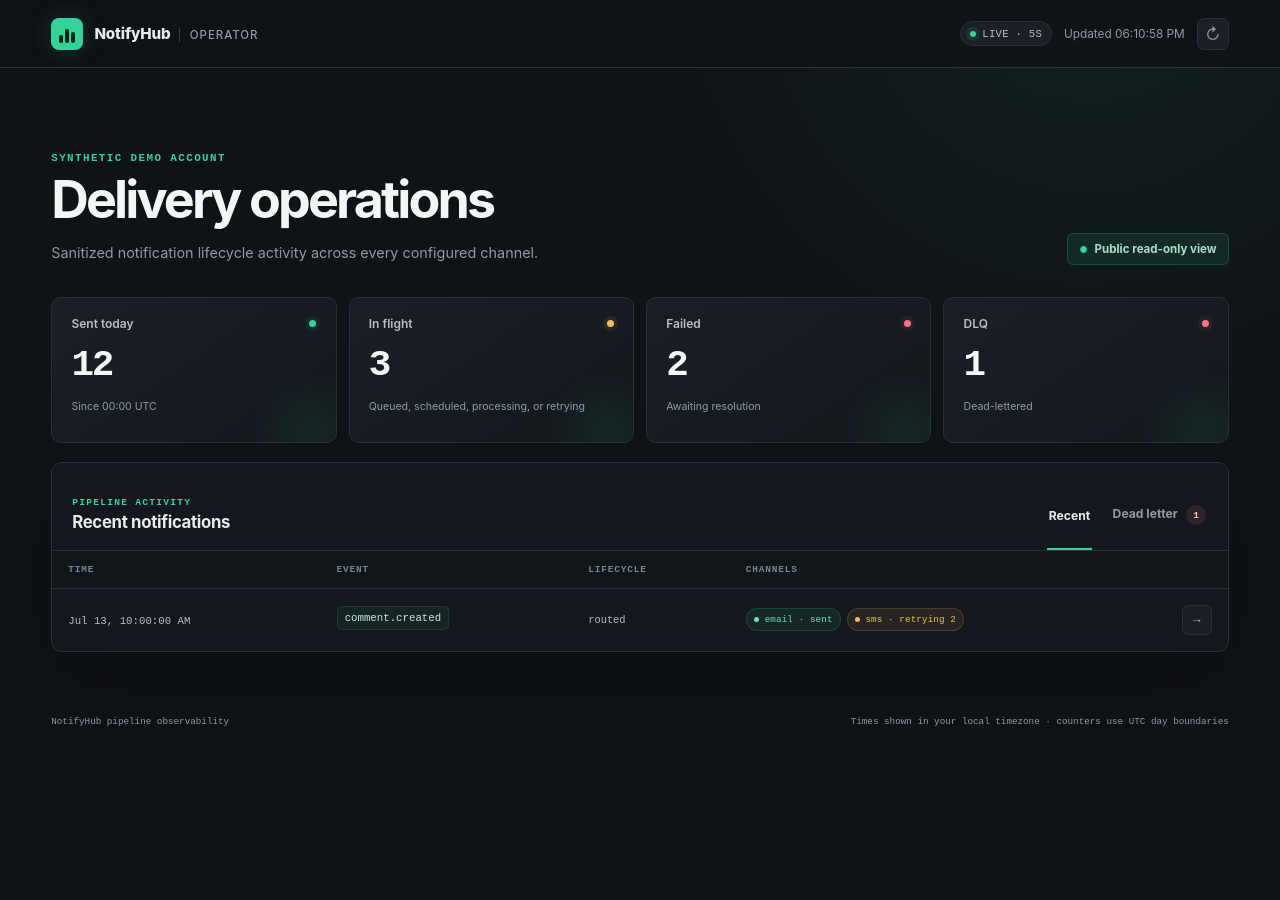
it: operator dashboard › handles the removed retry outcome and keeps the key in component memory
Click the tab "Dead letter 1" at (1159, 516), box [1111, 482, 1208, 550]
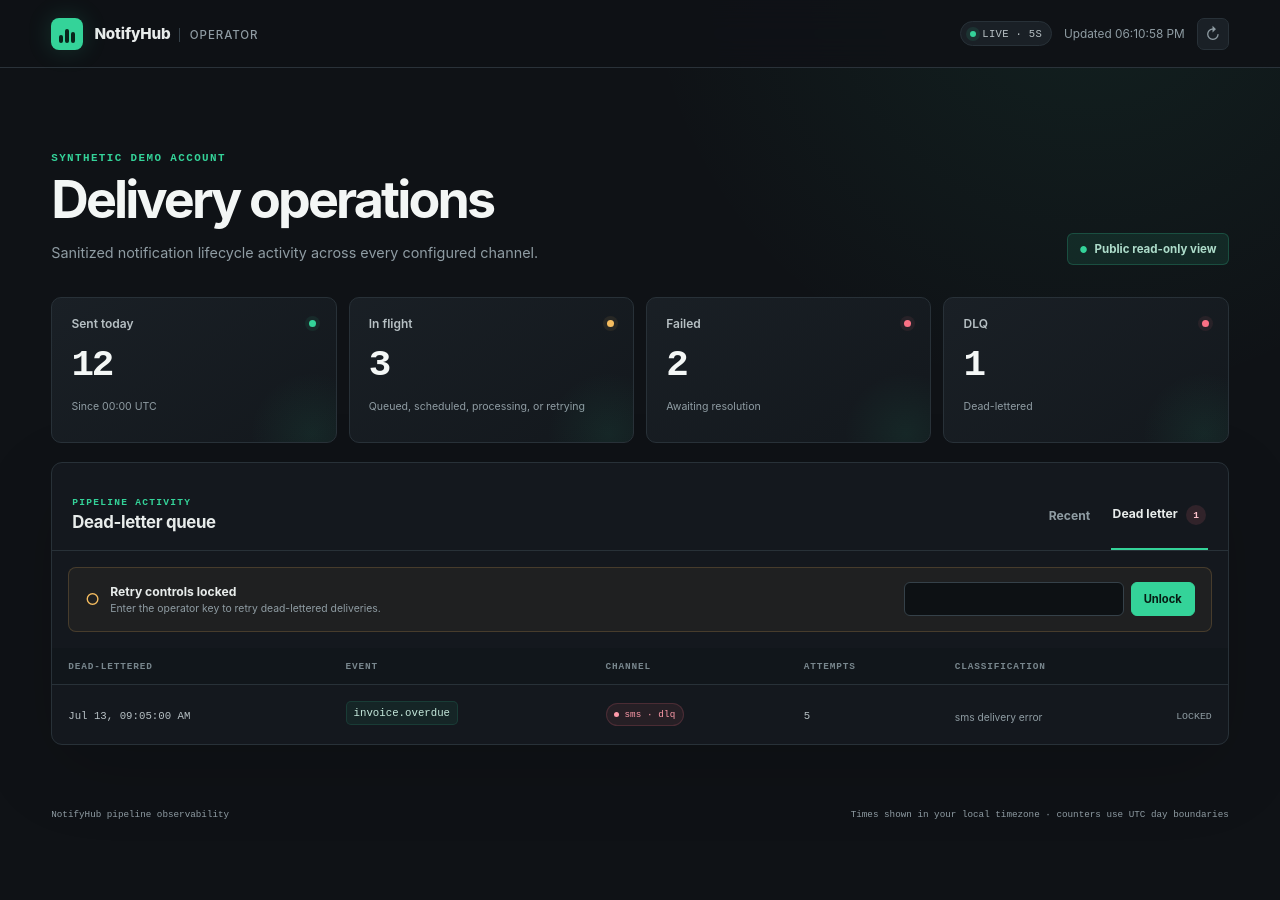
Type "memory-only-key" into the password field named "Operator key" at (1014, 599), box [904, 582, 1124, 616]
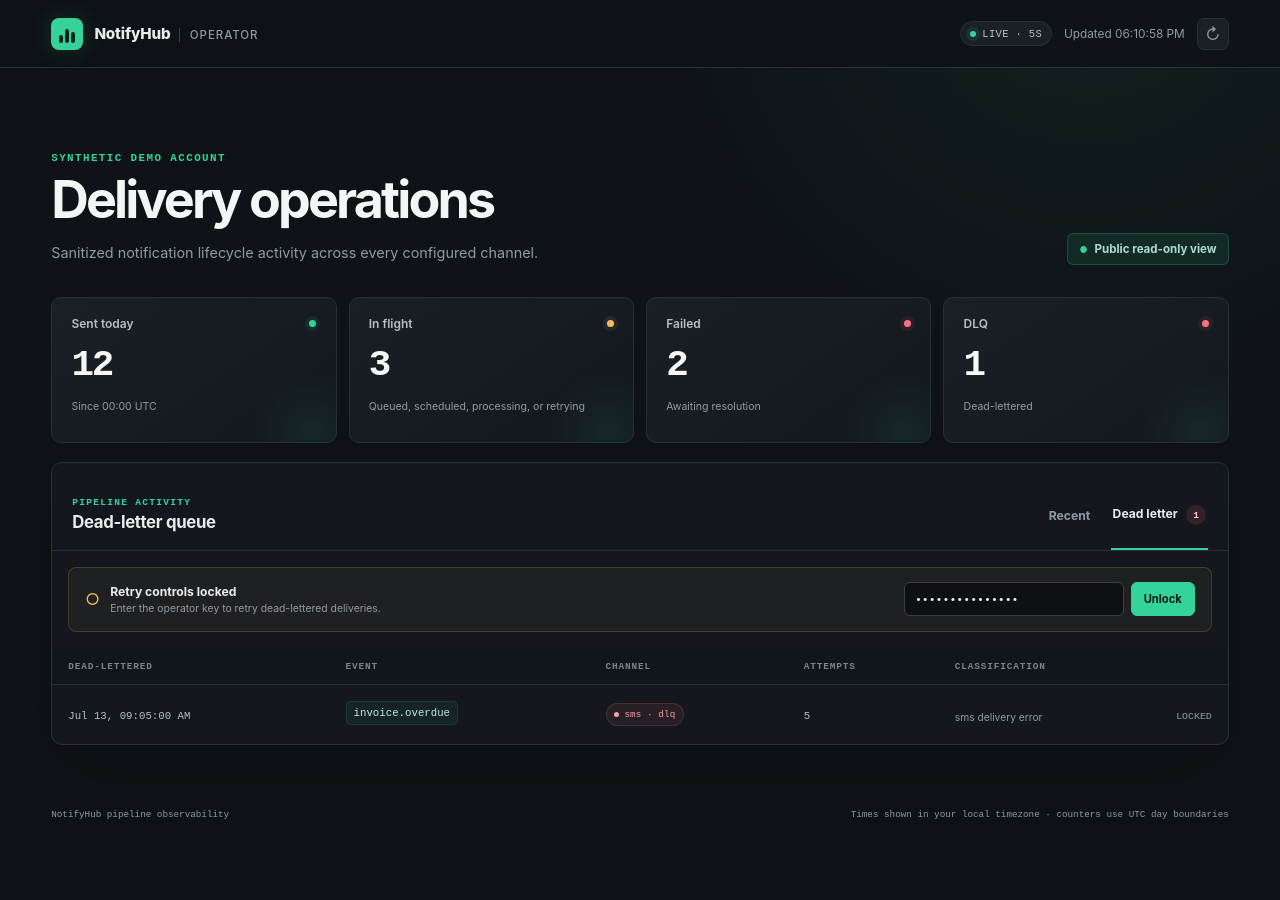
Submit the form named "Operator key", box [904, 582, 1195, 616]
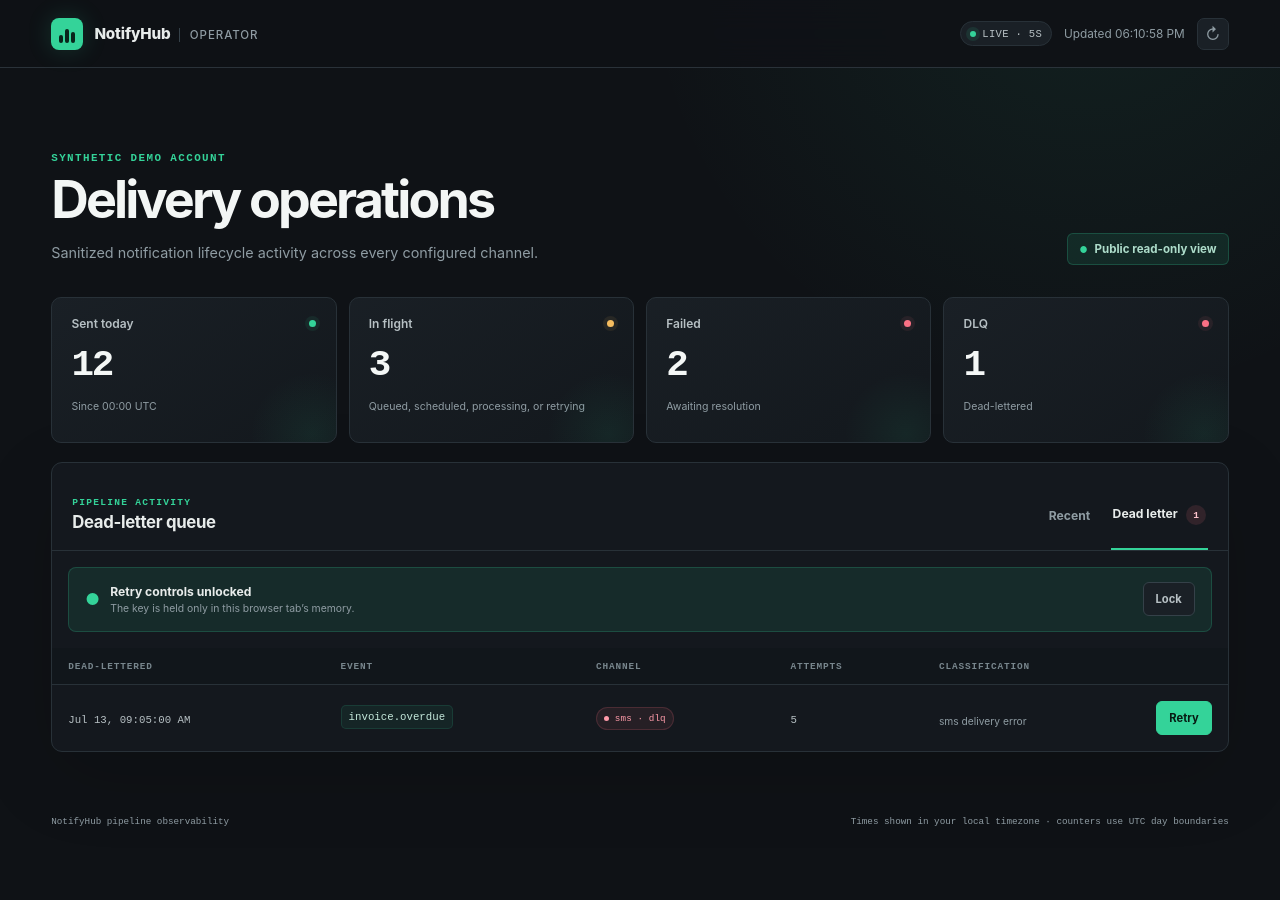
Click the button "Retry" at (1184, 718), box [1156, 701, 1212, 735]
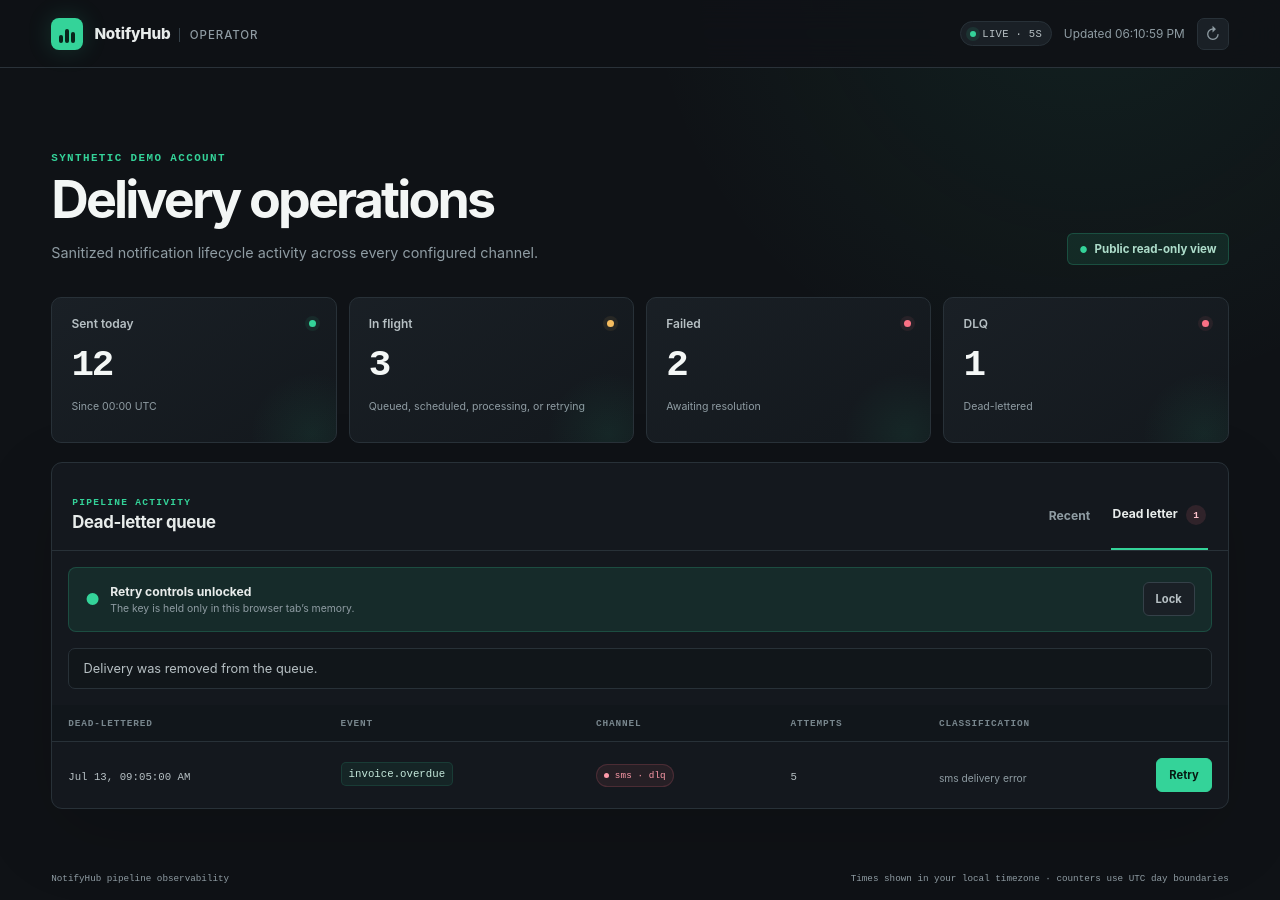
Now the text "Delivery was removed from the queue." is shown, box [68, 648, 1212, 689]
